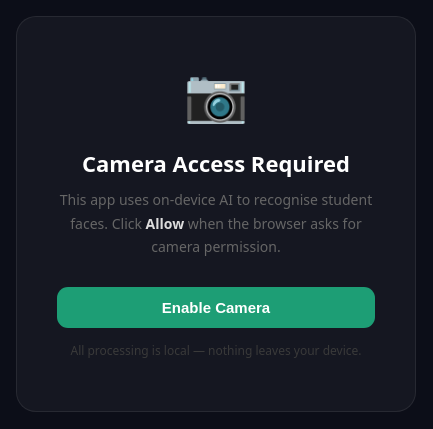
Scenario: App › explains when camera permission is denied
Click the button "Enable Camera": {"x": 216, "y": 308} [57,287,375,328]
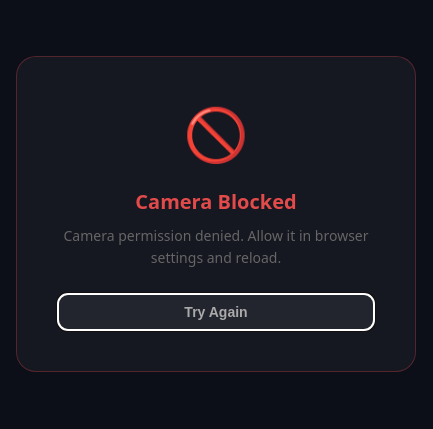
Result: the text "Camera permission denied" is shown at [64,226,368,267]
